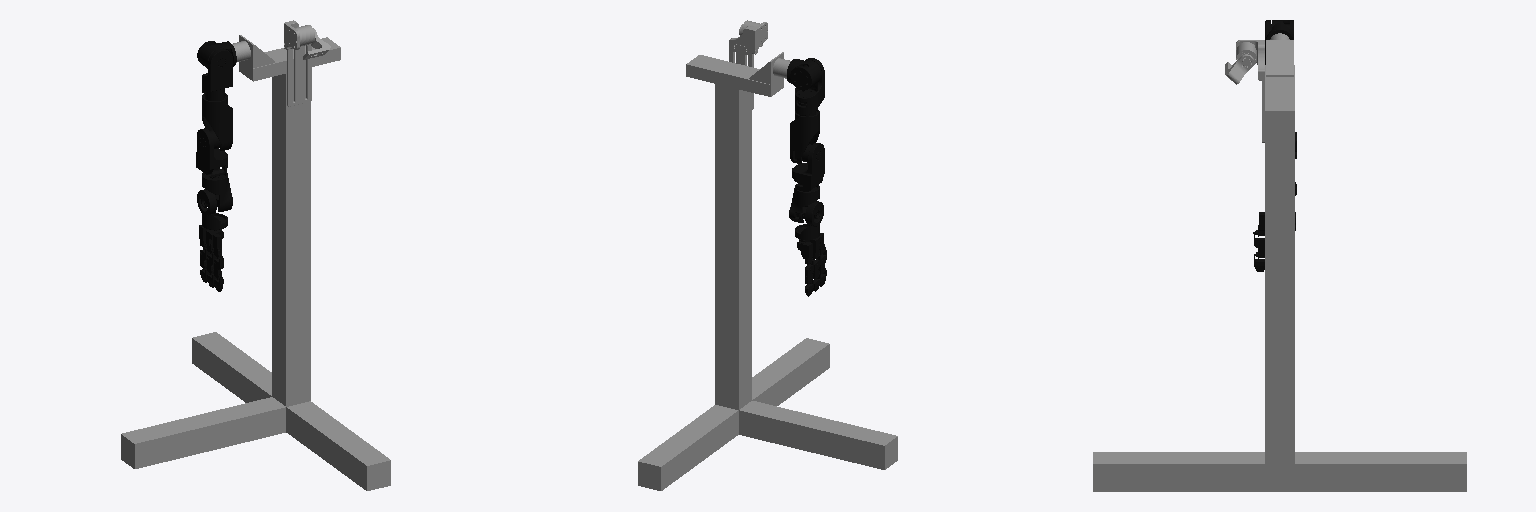
The robot description file, URDF, robot "JAXV3_Assembly":
<?xml version="1.0"?>
<!-- JAXV3_Assembly (URDF_1108-2, 2026-11-08) prepared for the Isaac task (original: JAXV3_Assembly_original.urdf):
     link names without the exporter's "_1" suffix; mesh paths relative; ros2_control removed;
     shoulder_roll_to_shoulder_yaw and under_arm_to_wrist_pitch axes set to 0 0 -1 (limits negated) so joint angles keep the
     V2 (URDF_1006) sign convention used by the paths, lookup tables and policies - on the V3 robot / original URDF these two
     joints read the negative of the task's value; base_link collision removed (bounding box over the stand); collision of every link whose visual mesh and frame equal
     V2's taken from V2 (the exporter's primitive cylinders / boxes were bloated: finger first links 5 cm thick for a 1.6 cm part,
     palm and RotationBody boxes past the part) - files *_fromV2_collision.stl; MG996R: V2's fitted box at V3's visual origin (the hand sits 3.5 mm nearer the wrist). -->
<robot name="JAXV3_Assembly">

  
  <material name="Steel">
    <color rgba="0.627 0.627 0.627 1.0" />
  </material>
  <material name="Acetal_Resin_White">
    <color rgba="0.098 0.098 0.098 1.0" />
  </material>
  <material name="Generic">
    <color rgba="0.098 0.098 0.098 1.0" />
  </material>

  <link name="base_link">
    <inertial>
      <origin xyz="-0.055017 0.000000 0.331791" rpy="0 0 0" />
      <mass value="137.266081" />
      <inertia ixx="2.575008e+01" ixy="0.000000e+00" ixz="-1.895989e+00" iyy="2.387286e+01" iyz="0.000000e+00" izz="6.588692e+00" />
    </inertial>
    <visual>
      <origin xyz="0.000000 0.000000 0.000000" rpy="0.000000 0.000000 0.000000" />
      <geometry>
        <mesh filename="../meshes/JAXV3_Assembly/base_link.dae" scale="1 1 1" />
      </geometry>
      <material name="Steel" />
    </visual>
    </link>

  <link name="Shoulder_Pitch">
    <inertial>
      <origin xyz="-0.025919 0.000000 0.000254" rpy="0 0 0" />
      <mass value="0.945323" />
      <inertia ixx="3.526088e-04" ixy="0.000000e+00" ixz="-4.945399e-06" iyy="3.789174e-04" iyz="0.000000e+00" izz="3.842486e-04" />
    </inertial>
    <visual>
      <origin xyz="0.000000 0.000000 0.000000" rpy="0.000000 0.000000 0.000000" />
      <geometry>
        <mesh filename="../meshes/JAXV3_Assembly/Shoulder_Pitch_1.dae" scale="1 1 1" />
      </geometry>
      <material name="Steel" />
    </visual>
    <collision>
      <origin xyz="0.000000 0.000000 0.000000" rpy="0.000000 0.000000 0.000000" />
      <geometry>
        <mesh filename="../meshes/JAXV3_Assembly/Shoulder_Pitch_1_collision.stl" scale="0.01 0.01 0.01" />
      </geometry>
    </collision>
  </link>

  <link name="Holder">
    <inertial>
      <origin xyz="0.191681 -0.014898 0.032704" rpy="0 0 0" />
      <mass value="3.331140" />
      <inertia ixx="1.734710e-02" ixy="1.486348e-03" ixz="-2.128939e-04" iyy="4.873273e-03" iyz="-2.937509e-03" izz="1.666697e-02" />
    </inertial>
    <visual>
      <origin xyz="0.000000 0.000000 0.000000" rpy="0.000000 0.000000 0.000000" />
      <geometry>
        <mesh filename="../meshes/JAXV3_Assembly/Holder_1.dae" scale="1 1 1" />
      </geometry>
      <material name="Steel" />
    </visual>
    <collision>
      <origin xyz="0.000000 0.000000 0.000000" rpy="0.000000 0.000000 0.000000" />
      <geometry>
        <mesh filename="../meshes/JAXV3_Assembly/Holder_1_collision.stl" scale="0.01 0.01 0.01" />
      </geometry>
    </collision>
  </link>

  <link name="Shoulder_Roll">
    <inertial>
      <origin xyz="0.006736 -0.000116 0.041627" rpy="0 0 0" />
      <mass value="0.262799" />
      <inertia ixx="2.438658e-04" ixy="4.725397e-07" ixz="-9.712209e-06" iyy="2.386309e-04" iyz="2.560602e-07" izz="1.815925e-04" />
    </inertial>
    <visual>
      <origin xyz="0.000000 0.000000 0.000000" rpy="1.570796 1.570796 0.000000" />
      <geometry>
        <mesh filename="../meshes/JAXV3_Assembly/Shoulder_Roll_1.dae" scale="1 1 1" />
      </geometry>
      <material name="Acetal_Resin_White" />
    </visual>
    <collision>
      <origin xyz="0.000000 0.000000 0.000000" rpy="1.570796 1.570796 0.000000" />
      <geometry>
        <mesh filename="../meshes/JAXV3_Assembly/Shoulder_Roll_fromV2_collision.stl" scale="0.01 0.01 0.01" />
      </geometry>
    </collision></link>

  <link name="Shoulder_Yaw">
    <inertial>
      <origin xyz="-0.000000 -0.066867 -0.014142" rpy="0 0 0" />
      <mass value="0.320456" />
      <inertia ixx="6.510216e-04" ixy="1.467003e-11" ixz="8.632501e-12" iyy="2.696023e-04" iyz="-1.666095e-04" izz="6.394572e-04" />
    </inertial>
    <visual>
      <origin xyz="0.000000 0.000000 0.004500" rpy="-1.570796 0.000000 0.000000" />
      <geometry>
        <mesh filename="../meshes/JAXV3_Assembly/Shoulder_Yaw_1.dae" scale="1 1 1" />
      </geometry>
      <material name="Acetal_Resin_White" />
    </visual>
    <collision>
      <origin xyz="0.000000 0.000000 0.004500" rpy="-1.570796 0.000000 0.000000" />
      <geometry>
        <mesh filename="../meshes/JAXV3_Assembly/Shoulder_Yaw_1_collision.stl" scale="0.01 0.01 0.01" />
      </geometry>
    </collision>
  </link>

  <link name="Upper_Arm">
    <inertial>
      <origin xyz="0.009753 0.000235 0.085336" rpy="0 0 0" />
      <mass value="0.359402" />
      <inertia ixx="1.105148e-03" ixy="-1.458579e-06" ixz="-4.585630e-05" iyy="1.087478e-03" iyz="-3.741028e-06" izz="3.229561e-04" />
    </inertial>
    <visual>
      <origin xyz="0.000000 0.000000 0.000000" rpy="3.141593 0.000000 0.000000" />
      <geometry>
        <mesh filename="../meshes/JAXV3_Assembly/Upper_Arm_1.dae" scale="1 1 1" />
      </geometry>
      <material name="Acetal_Resin_White" />
    </visual>
    <collision>
      <origin xyz="0.000000 0.000000 0.000000" rpy="3.141593 0.000000 0.000000" />
      <geometry>
        <mesh filename="../meshes/JAXV3_Assembly/Upper_Arm_fromV2_collision.stl" scale="0.01 0.01 0.01" />
      </geometry>
    </collision></link>

  <link name="Under_Arm">
    <inertial>
      <origin xyz="0.004585 0.057220 -0.010887" rpy="0 0 0" />
      <mass value="0.331919" />
      <inertia ixx="5.029360e-04" ixy="-3.480238e-05" ixz="8.832085e-06" iyy="2.829254e-04" iyz="8.655003e-05" izz="5.239298e-04" />
    </inertial>
    <visual>
      <origin xyz="0.000000 -0.000003 0.000000" rpy="1.570796 1.570796 0.000000" />
      <geometry>
        <mesh filename="../meshes/JAXV3_Assembly/Under_Arm_1.dae" scale="1 1 1" />
      </geometry>
      <material name="Acetal_Resin_White" />
    </visual>
    <collision>
      <origin xyz="0.000000 -0.000003 0.000000" rpy="1.570796 1.570796 0.000000" />
      <geometry>
        <mesh filename="../meshes/JAXV3_Assembly/Under_Arm_fromV2_collision.stl" scale="0.01 0.01 0.01" />
      </geometry>
    </collision></link>

  <link name="Wrist_Pitch">
    <inertial>
      <origin xyz="0.009082 -0.002213 0.042135" rpy="0 0 0" />
      <mass value="0.189235" />
      <inertia ixx="3.036172e-04" ixy="2.101562e-06" ixz="-3.435637e-05" iyy="2.721912e-04" iyz="1.130097e-05" izz="1.661101e-04" />
    </inertial>
    <visual>
      <origin xyz="0.000000 0.000000 0.000000" rpy="-3.141593 0.000000 0.000000" />
      <geometry>
        <mesh filename="../meshes/JAXV3_Assembly/Wrist_Pitch_1.dae" scale="1 1 1" />
      </geometry>
      <material name="Acetal_Resin_White" />
    </visual>
    <collision>
      <origin xyz="0.000000 0.000000 0.000000" rpy="-3.141593 0.000000 0.000000" />
      <geometry>
        <mesh filename="../meshes/JAXV3_Assembly/Wrist_Pitch_1_collision.stl" scale="0.01 0.01 0.01" />
      </geometry>
    </collision>
  </link>

  <link name="Wrist_yaw">
    <inertial>
      <origin xyz="-0.000000 0.032449 -0.004118" rpy="0 0 0" />
      <mass value="0.145699" />
      <inertia ixx="2.545399e-04" ixy="4.872936e-10" ixz="2.614622e-10" iyy="1.103873e-04" iyz="6.162241e-05" izz="2.623350e-04" />
    </inertial>
    <visual>
      <origin xyz="0.000000 0.000000 0.000000" rpy="1.570796 1.570796 0.000000" />
      <geometry>
        <mesh filename="../meshes/JAXV3_Assembly/Wrist_yaw_1.dae" scale="1 1 1" />
      </geometry>
      <material name="Acetal_Resin_White" />
    </visual>
    <collision>
      <origin xyz="0.000000 0.000000 0.000000" rpy="1.570796 1.570796 0.000000" />
      <geometry>
        <mesh filename="../meshes/JAXV3_Assembly/Wrist_yaw_fromV2_collision.stl" scale="0.01 0.01 0.01" />
      </geometry>
    </collision></link>

  <link name="MG996R">
    <inertial>
      <origin xyz="-0.010774 0.005867 -0.032163" rpy="0 0 0" />
      <mass value="0.099465" />
      <inertia ixx="7.803347e-05" ixy="1.050235e-06" ixz="-8.745155e-06" iyy="4.395029e-05" iyz="2.492857e-06" izz="5.885032e-05" />
    </inertial>
    <visual>
      <origin xyz="-0.013500 0.009165 -0.053571" rpy="-3.141593 1.570796 0.000000" />
      <geometry>
        <mesh filename="../meshes/JAXV3_Assembly/MG996R_1.dae" scale="1 1 1" />
      </geometry>
      <material name="Generic" />
    </visual>
    <collision>
      <origin xyz="-0.013500 0.009165 -0.053571" rpy="-3.141593 1.570796 0.000000" />
      <geometry>
        <mesh filename="../meshes/JAXV3_Assembly/MG996R_fromV2_collision.stl" scale="0.01 0.01 0.01" />
      </geometry>
    </collision>
  </link>

  <link name="RotationBody">
    <inertial>
      <origin xyz="-0.019866 0.021115 0.000775" rpy="0 0 0" />
      <mass value="0.023314" />
      <inertia ixx="8.864326e-06" ixy="2.066119e-07" ixz="6.097483e-08" iyy="7.945382e-06" iyz="-7.658235e-07" izz="2.101975e-06" />
    </inertial>
    <visual>
      <origin xyz="0.015500 0.034603 0.010897" rpy="-3.141593 -1.570796 0.000000" />
      <geometry>
        <mesh filename="../meshes/JAXV3_Assembly/RotationBody_1.dae" scale="1 1 1" />
      </geometry>
      <material name="Acetal_Resin_White" />
    </visual>
    <collision>
      <origin xyz="0.015500 0.034603 0.010897" rpy="-3.141593 -1.570796 0.000000" />
      <geometry>
        <mesh filename="../meshes/JAXV3_Assembly/RotationBody_fromV2_collision.stl" scale="0.01 0.01 0.01" />
      </geometry>
    </collision></link>

  <link name="Finger_1_1">
    <inertial>
      <origin xyz="-0.000017 -0.041052 -0.016849" rpy="0 0 0" />
      <mass value="0.020271" />
      <inertia ixx="7.911076e-06" ixy="4.618794e-09" ixz="-2.310812e-09" iyy="2.084078e-06" iyz="-1.150961e-06" izz="6.364432e-06" />
    </inertial>
    <visual>
      <origin xyz="0.006500 0.015250 -0.042800" rpy="1.570796 0.000000 -1.570796" />
      <geometry>
        <mesh filename="../meshes/JAXV3_Assembly/Finger_1_1_1.dae" scale="1 1 1" />
      </geometry>
      <material name="Acetal_Resin_White" />
    </visual>
    <collision>
      <origin xyz="0.006500 0.015250 -0.042800" rpy="1.570796 0.000000 -1.570796" />
      <geometry>
        <mesh filename="../meshes/JAXV3_Assembly/Finger_1_1_fromV2_collision.stl" scale="0.01 0.01 0.01" />
      </geometry>
    </collision></link>

  <link name="Finger_2_1">
    <inertial>
      <origin xyz="-0.000017 -0.041052 -0.016849" rpy="0 0 0" />
      <mass value="0.020271" />
      <inertia ixx="7.911077e-06" ixy="4.618794e-09" ixz="-2.310714e-09" iyy="2.084078e-06" iyz="-1.150960e-06" izz="6.364432e-06" />
    </inertial>
    <visual>
      <origin xyz="0.006500 0.015250 -0.005800" rpy="1.570796 0.000000 -1.570796" />
      <geometry>
        <mesh filename="../meshes/JAXV3_Assembly/Finger_2_1_1.dae" scale="1 1 1" />
      </geometry>
      <material name="Acetal_Resin_White" />
    </visual>
    <collision>
      <origin xyz="0.006500 0.015250 -0.005800" rpy="1.570796 0.000000 -1.570796" />
      <geometry>
        <mesh filename="../meshes/JAXV3_Assembly/Finger_2_1_fromV2_collision.stl" scale="0.01 0.01 0.01" />
      </geometry>
    </collision></link>

  <link name="Finger_3_1">
    <inertial>
      <origin xyz="-0.000017 -0.041052 -0.016849" rpy="0 0 0" />
      <mass value="0.020271" />
      <inertia ixx="7.911077e-06" ixy="4.619483e-09" ixz="-2.310653e-09" iyy="2.084078e-06" iyz="-1.150960e-06" izz="6.364432e-06" />
    </inertial>
    <visual>
      <origin xyz="0.036500 0.015250 -0.010815" rpy="-1.570796 0.000000 -1.570796" />
      <geometry>
        <mesh filename="../meshes/JAXV3_Assembly/Finger_3_1_1.dae" scale="1 1 1" />
      </geometry>
      <material name="Acetal_Resin_White" />
    </visual>
    <collision>
      <origin xyz="0.036500 0.015250 -0.010815" rpy="-1.570796 0.000000 -1.570796" />
      <geometry>
        <mesh filename="../meshes/JAXV3_Assembly/Finger_3_1_fromV2_collision.stl" scale="0.01 0.01 0.01" />
      </geometry>
    </collision></link>

  <link name="Finger_1_2">
    <inertial>
      <origin xyz="0.000000 -0.027873 -0.014105" rpy="0 0 0" />
      <mass value="0.011312" />
      <inertia ixx="2.212028e-06" ixy="0.000000e+00" ixz="0.000000e+00" iyy="1.076266e-06" iyz="-3.114506e-07" izz="1.397398e-06" />
    </inertial>
    <visual>
      <origin xyz="0.006738 0.079682 -0.043102" rpy="1.570796 0.000000 -1.570796" />
      <geometry>
        <mesh filename="../meshes/JAXV3_Assembly/Finger_1_2_1.dae" scale="1 1 1" />
      </geometry>
      <material name="Acetal_Resin_White" />
    </visual>
    <collision>
      <origin xyz="0.006738 0.079682 -0.043102" rpy="1.570796 0.000000 -1.570796" />
      <geometry>
        <mesh filename="../meshes/JAXV3_Assembly/Finger_1_2_fromV2_collision.stl" scale="0.01 0.01 0.01" />
      </geometry>
    </collision></link>

  <link name="Finger_2_2">
    <inertial>
      <origin xyz="0.000000 -0.027873 -0.014105" rpy="0 0 0" />
      <mass value="0.011312" />
      <inertia ixx="2.212028e-06" ixy="0.000000e+00" ixz="0.000000e+00" iyy="1.076266e-06" iyz="-3.114506e-07" izz="1.397398e-06" />
    </inertial>
    <visual>
      <origin xyz="0.006500 0.080250 -0.005800" rpy="1.570796 0.000000 -1.570796" />
      <geometry>
        <mesh filename="../meshes/JAXV3_Assembly/Finger_2_2_1.dae" scale="1 1 1" />
      </geometry>
      <material name="Acetal_Resin_White" />
    </visual>
    <collision>
      <origin xyz="0.006500 0.080250 -0.005800" rpy="1.570796 0.000000 -1.570796" />
      <geometry>
        <mesh filename="../meshes/JAXV3_Assembly/Finger_2_2_fromV2_collision.stl" scale="0.01 0.01 0.01" />
      </geometry>
    </collision></link>

  <link name="Finger_3_2">
    <inertial>
      <origin xyz="0.000000 -0.027873 -0.014105" rpy="0 0 0" />
      <mass value="0.011312" />
      <inertia ixx="2.212028e-06" ixy="0.000000e+00" ixz="0.000000e+00" iyy="1.076266e-06" iyz="-3.114506e-07" izz="1.397398e-06" />
    </inertial>
    <visual>
      <origin xyz="0.036500 0.080250 -0.010815" rpy="-1.570796 0.000000 -1.570796" />
      <geometry>
        <mesh filename="../meshes/JAXV3_Assembly/Finger_3_2_1.dae" scale="1 1 1" />
      </geometry>
      <material name="Acetal_Resin_White" />
    </visual>
    <collision>
      <origin xyz="0.036500 0.080250 -0.010815" rpy="-1.570796 0.000000 -1.570796" />
      <geometry>
        <mesh filename="../meshes/JAXV3_Assembly/Finger_3_2_fromV2_collision.stl" scale="0.01 0.01 0.01" />
      </geometry>
    </collision></link>

  <joint name="base_link_to_shoulder_pitch" type="fixed">
    <parent link="base_link" />
    <child link="Shoulder_Pitch" />
    <origin xyz="-0.150000 0.000000 1.212500" rpy="0.000000 0.000000 0.000000" />
  </joint>

  <joint name="base_link_to_holder" type="fixed">
    <parent link="base_link" />
    <child link="Holder" />
    <origin xyz="-0.200000 -0.040000 1.232000" rpy="1.570796 0.000000 0.000000" />
  </joint>

  <joint name="shoulder_pitch_to_shoulder_roll" type="revolute">
    <parent link="Shoulder_Pitch" />
    <child link="Shoulder_Roll" />
    <origin xyz="-0.052000 0.000000 0.000000" rpy="-1.570796 0.000000 1.570796" />
    <axis xyz="0.000000 0.000000 1.000000" />
    <limit lower="-0.785398" upper="0.785398" effort="100.0" velocity="1.00" />
  </joint>

  <joint name="shoulder_roll_to_shoulder_yaw" type="revolute">
    <parent link="Shoulder_Roll" />
    <child link="Shoulder_Yaw" />
    <origin xyz="-0.024500 0.000000 0.050000" rpy="-3.141593 1.570796 0.000000" />
    <axis xyz="0 0 -1" />
    <limit lower="-0.000000" upper="0.872665" effort="100.0" velocity="1.00" />
  </joint>

  <joint name="shoulder_yaw_to_upper_arm" type="revolute">
    <parent link="Shoulder_Yaw" />
    <child link="Upper_Arm" />
    <origin xyz="0.000000 -0.127000 -0.025500" rpy="1.570796 0.000000 0.000000" />
    <axis xyz="0.000000 0.000000 1.000000" />
    <limit lower="-1.570796" upper="4.188790" effort="100.0" velocity="1.00" />
  </joint>

  <joint name="upper_arm_to_under_arm" type="revolute">
    <parent link="Upper_Arm" />
    <child link="Under_Arm" />
    <origin xyz="-0.024500 -0.000208 0.129792" rpy="1.570796 0.000000 -1.570796" />
    <axis xyz="0.000000 0.000000 1.000000" />
    <limit lower="-1.745329" upper="1.745329" effort="100.0" velocity="1.00" />
  </joint>

  <joint name="under_arm_to_wrist_pitch" type="revolute">
    <parent link="Under_Arm" />
    <child link="Wrist_Pitch" />
    <origin xyz="0.000000 0.121797 -0.024500" rpy="-1.570796 1.570796 0.000000" />
    <axis xyz="0 0 -1" />
    <limit lower="-1.570796" upper="1.570796" effort="100.0" velocity="1.00" />
  </joint>

  <joint name="wrist_pitch_to_wrist_yaw" type="revolute">
    <parent link="Wrist_Pitch" />
    <child link="Wrist_yaw" />
    <origin xyz="-0.020000 0.000000 0.070200" rpy="1.570796 0.000000 -1.570796" />
    <axis xyz="0.000000 0.000000 1.000000" />
    <limit lower="-1.570796" upper="1.570796" effort="100.0" velocity="1.00" />
  </joint>

  <joint name="wrist_yaw_to_hand_base" type="revolute">
    <parent link="Wrist_yaw" />
    <child link="MG996R" />
    <origin xyz="0.000000 0.077000 -0.020000" rpy="1.570796 1.570796 0.000000" />
    <axis xyz="0.000000 0.000000 1.000000" />
    <limit lower="-2.094395" upper="2.094395" effort="100.0" velocity="1.00" />
  </joint>

  <joint name="hand_base_to_rotation_base" type="revolute">
    <parent link="MG996R" />
    <child link="RotationBody" />
    <origin xyz="0.002087 -0.025561 -0.042240" rpy="3.141593 0.000000 0.000000" />
    <axis xyz="0.000000 0.000000 1.000000" />
    <limit lower="-3.141593" upper="0.000000" effort="100.0" velocity="1.00" />
  </joint>

  <joint name="hand_base_to_finger_1_1" type="revolute">
    <parent link="MG996R" />
    <child link="Finger_1_1" />
    <origin xyz="-0.020000 -0.033335 -0.068804" rpy="1.570796 0.000000 0.000000" />
    <axis xyz="0.000000 0.000000 1.000000" />
    <limit lower="-1.570796" upper="1.570796" effort="100.0" velocity="1.00" />
  </joint>

  <joint name="hand_base_to_finger_2_1" type="revolute">
    <parent link="MG996R" />
    <child link="Finger_2_1" />
    <origin xyz="-0.020000 0.006665 -0.068821" rpy="1.570796 0.000000 0.000000" />
    <axis xyz="0.000000 0.000000 1.000000" />
    <limit lower="-1.570796" upper="1.570796" effort="100.0" velocity="1.00" />
  </joint>

  <joint name="rotation_base_to_finger_3_1" type="revolute">
    <parent link="RotationBody" />
    <child link="Finger_3_1" />
    <origin xyz="-0.021000 0.044775 0.026147" rpy="-1.570796 0.000000 0.000000" />
    <axis xyz="0.000000 0.000000 1.000000" />
    <limit lower="-1.570796" upper="1.570796" effort="100.0" velocity="1.00" />
  </joint>

  <joint name="finger_1_1_to_finger_1_2" type="revolute">
    <parent link="Finger_1_1" />
    <child link="Finger_1_2" />
    <origin xyz="0.000000 -0.065000 -0.000300" rpy="0.000000 0.000000 0.000000" />
    <axis xyz="0.000000 0.000000 1.000000" />
    <limit lower="0.000000" upper="2.094395" effort="100.0" velocity="1.00" />
  </joint>

  <joint name="finger_1_2_to_finger_2_2" type="revolute">
    <parent link="Finger_2_1" />
    <child link="Finger_2_2" />
    <origin xyz="0.000000 -0.065000 -0.000300" rpy="0.000000 0.000000 0.000000" />
    <axis xyz="0.000000 0.000000 1.000000" />
    <limit lower="0.000000" upper="2.094395" effort="100.0" velocity="1.00" />
  </joint>

  <joint name="finger_3_1_to_finger_3_2" type="revolute">
    <parent link="Finger_3_1" />
    <child link="Finger_3_2" />
    <origin xyz="0.000000 -0.065000 -0.000300" rpy="0.000000 0.000000 0.000000" />
    <axis xyz="0.000000 0.000000 1.000000" />
    <limit lower="0.000000" upper="2.094395" effort="100.0" velocity="1.00" />
  </joint>

  
  </robot>

--- Facts derived from the render (not from the file) ---
3 views of the same robot in one strip: view 1: azimuth 30°, elevation 25°; view 2: azimuth 150°, elevation 25°; view 3: azimuth 270°, elevation 25° (orthographic).
Model JAXV3_Assembly with 17 links and 16 joints (14 revolute, 2 fixed), rooted at base_link, posed all joints at 0.
Visible links, largest first — view 1: base_link, Holder, Upper_Arm, Shoulder_Yaw, Under_Arm, Wrist_yaw, Wrist_Pitch; view 2: base_link, Holder, Upper_Arm, Under_Arm, Shoulder_Yaw, Shoulder_Roll, Wrist_yaw, Wrist_Pitch; view 3: base_link, Holder.
Boxes of the visible links, x1,y1,x2,y2 form: base_link: (121,35,390,490); Holder: (284,20,330,106); Upper_Arm: (202,93,232,150); Shoulder_Yaw: (202,49,232,100); Under_Arm: (196,128,227,177); Wrist_yaw: (197,189,227,229); Wrist_Pitch: (202,172,232,211); base_link: (638,52,897,490); Holder: (729,20,767,109); Upper_Arm: (790,109,819,163); Under_Arm: (792,143,824,191); Shoulder_Yaw: (795,58,824,116); Shoulder_Roll: (787,59,821,90); Wrist_yaw: (795,201,823,239); Wrist_Pitch: (789,183,819,222); base_link: (1093,40,1466,491); Holder: (1225,40,1264,142).
Size in the robot's own frame: 0.68 by 1 by 1.29 metres.
Meshes: 17 distinct files referenced, 17 mesh visuals loaded (17 Collada DAE).
